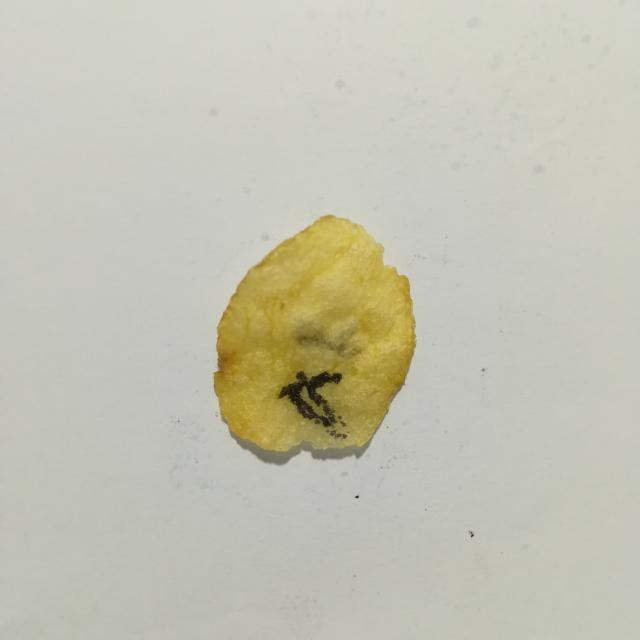chip: (214, 215, 415, 451)
damaged: (278, 371, 342, 427), (326, 429, 346, 438), (341, 420, 345, 426), (338, 415, 342, 419)
semi-damaged: (293, 319, 361, 357)
